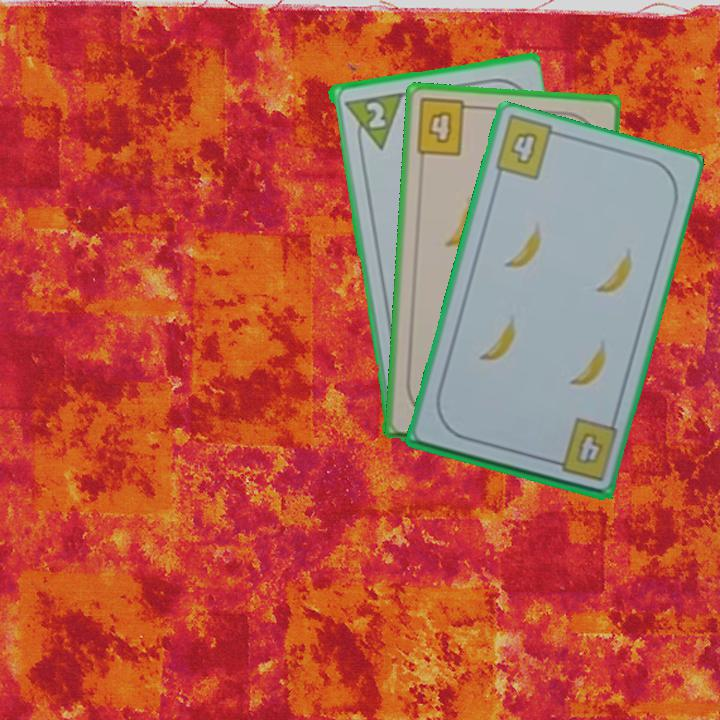2p: (361, 97, 388, 131)
4b: (545, 415, 621, 484), (412, 95, 479, 159), (506, 128, 540, 167)
